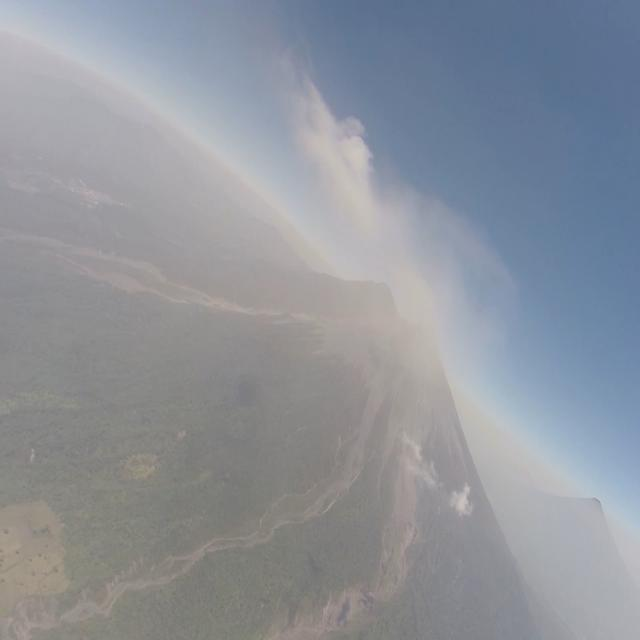Plume: (372, 168, 525, 416), (271, 20, 384, 242)
